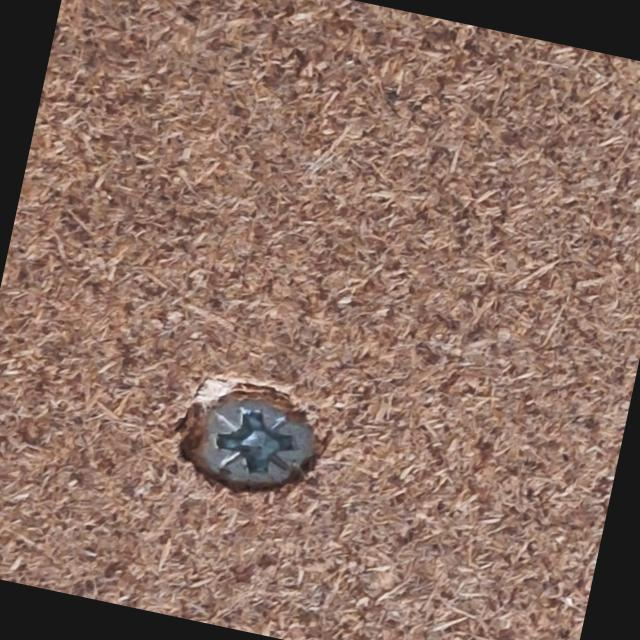Pozidriv: (175, 390, 328, 508)
